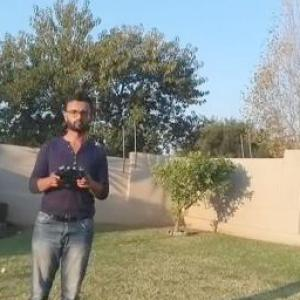follow: (19, 87, 115, 299)
